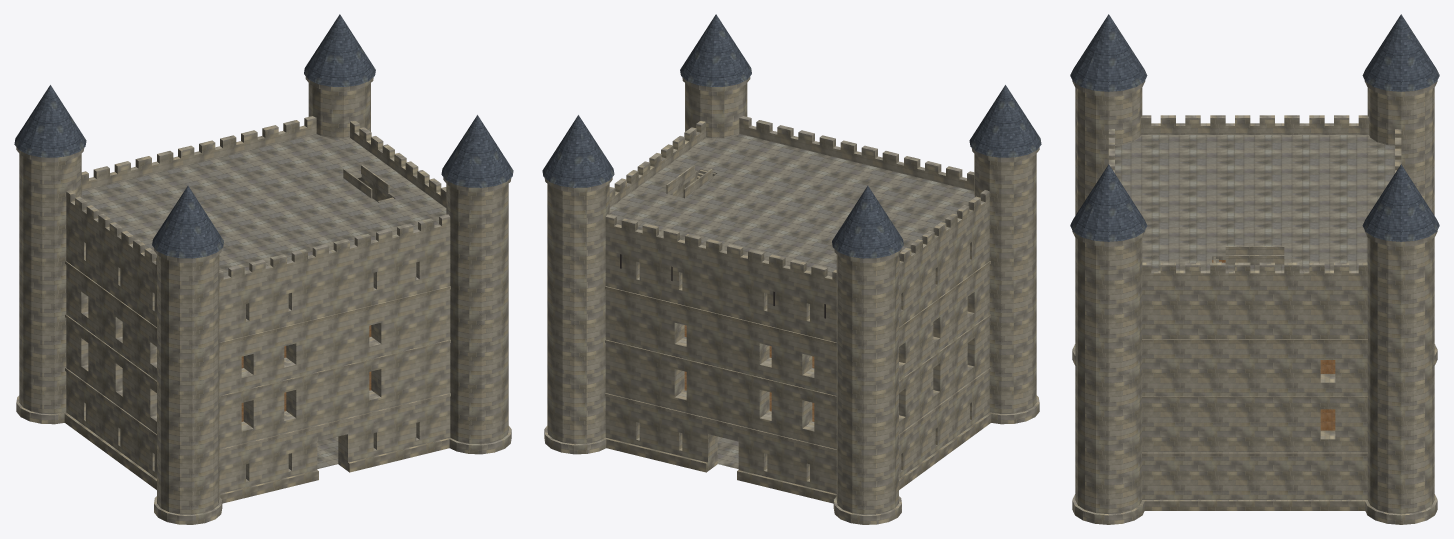
Rendered from fort-keep.fort-v2.lod0.glb.
3 renders of one model, left to right at view 1: azimuth 30°, elevation 25°; view 2: azimuth 150°, elevation 25°; view 3: azimuth 270°, elevation 25°, orthographic. The views are drawn at different scales.
Visible parts, largest first — view 1: fort-keep; view 2: fort-keep; view 3: fort-keep.
Boxes of the visible parts, left/top/right/bottom form: fort-keep: left=14, top=14, right=513, bottom=524; fort-keep: left=542, top=14, right=1041, bottom=524; fort-keep: left=1070, top=14, right=1439, bottom=524.
Size of the model in its own units: 41.4 by 36.5 by 35.4.
Materials: 5 (4 with a texture image).
